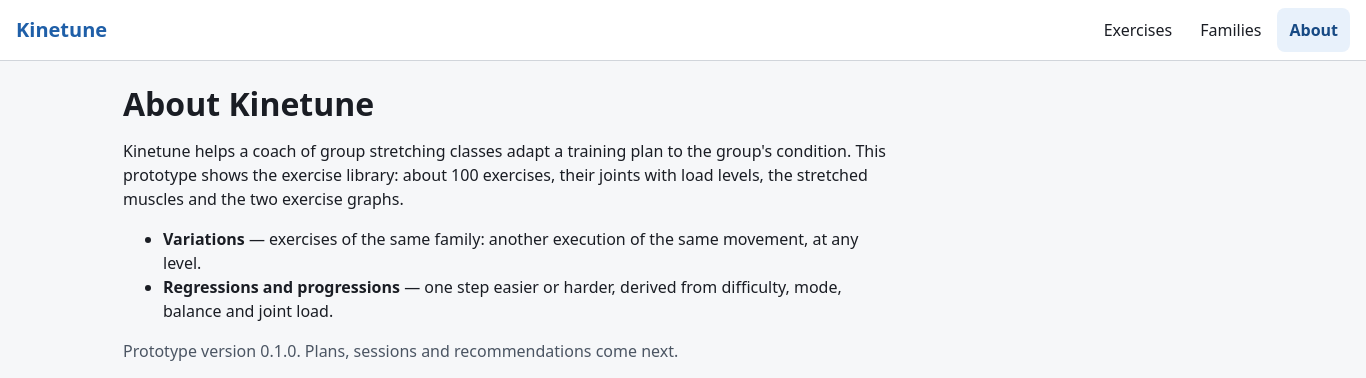
App routes › navigates between pages with the main navigation
The width and height of the screenshot is (1366, 378).
Click the link "Families": (1231, 30) [1200, 19, 1262, 41]
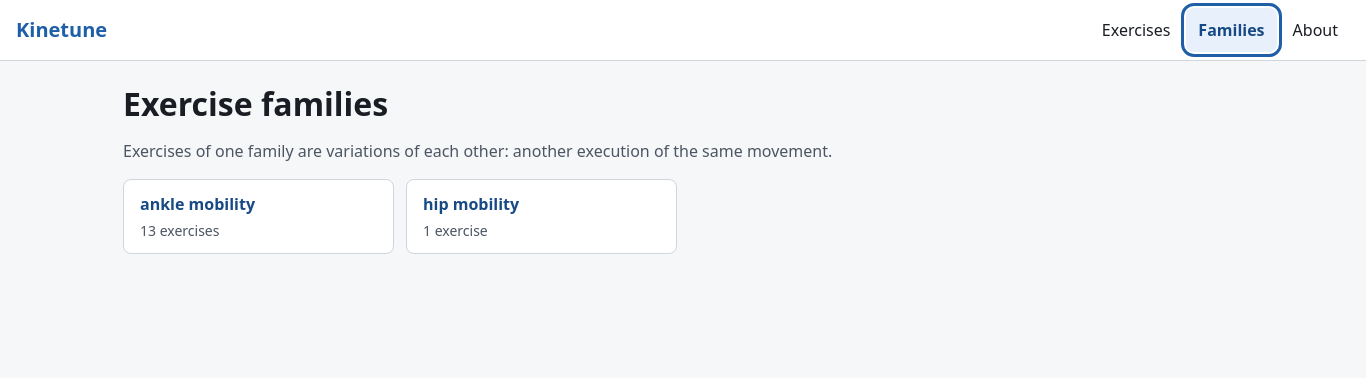
Expected: the heading "Exercise families" is shown, [123, 82, 388, 125]
